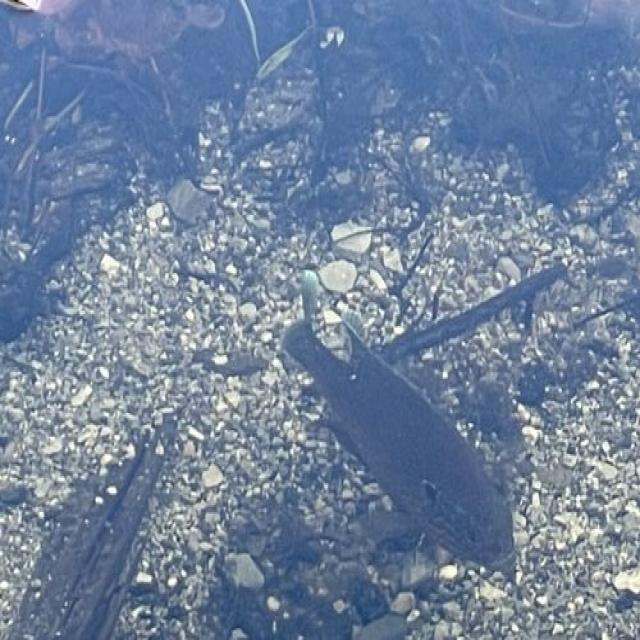Gunes Levregi: (276, 266, 521, 588)
